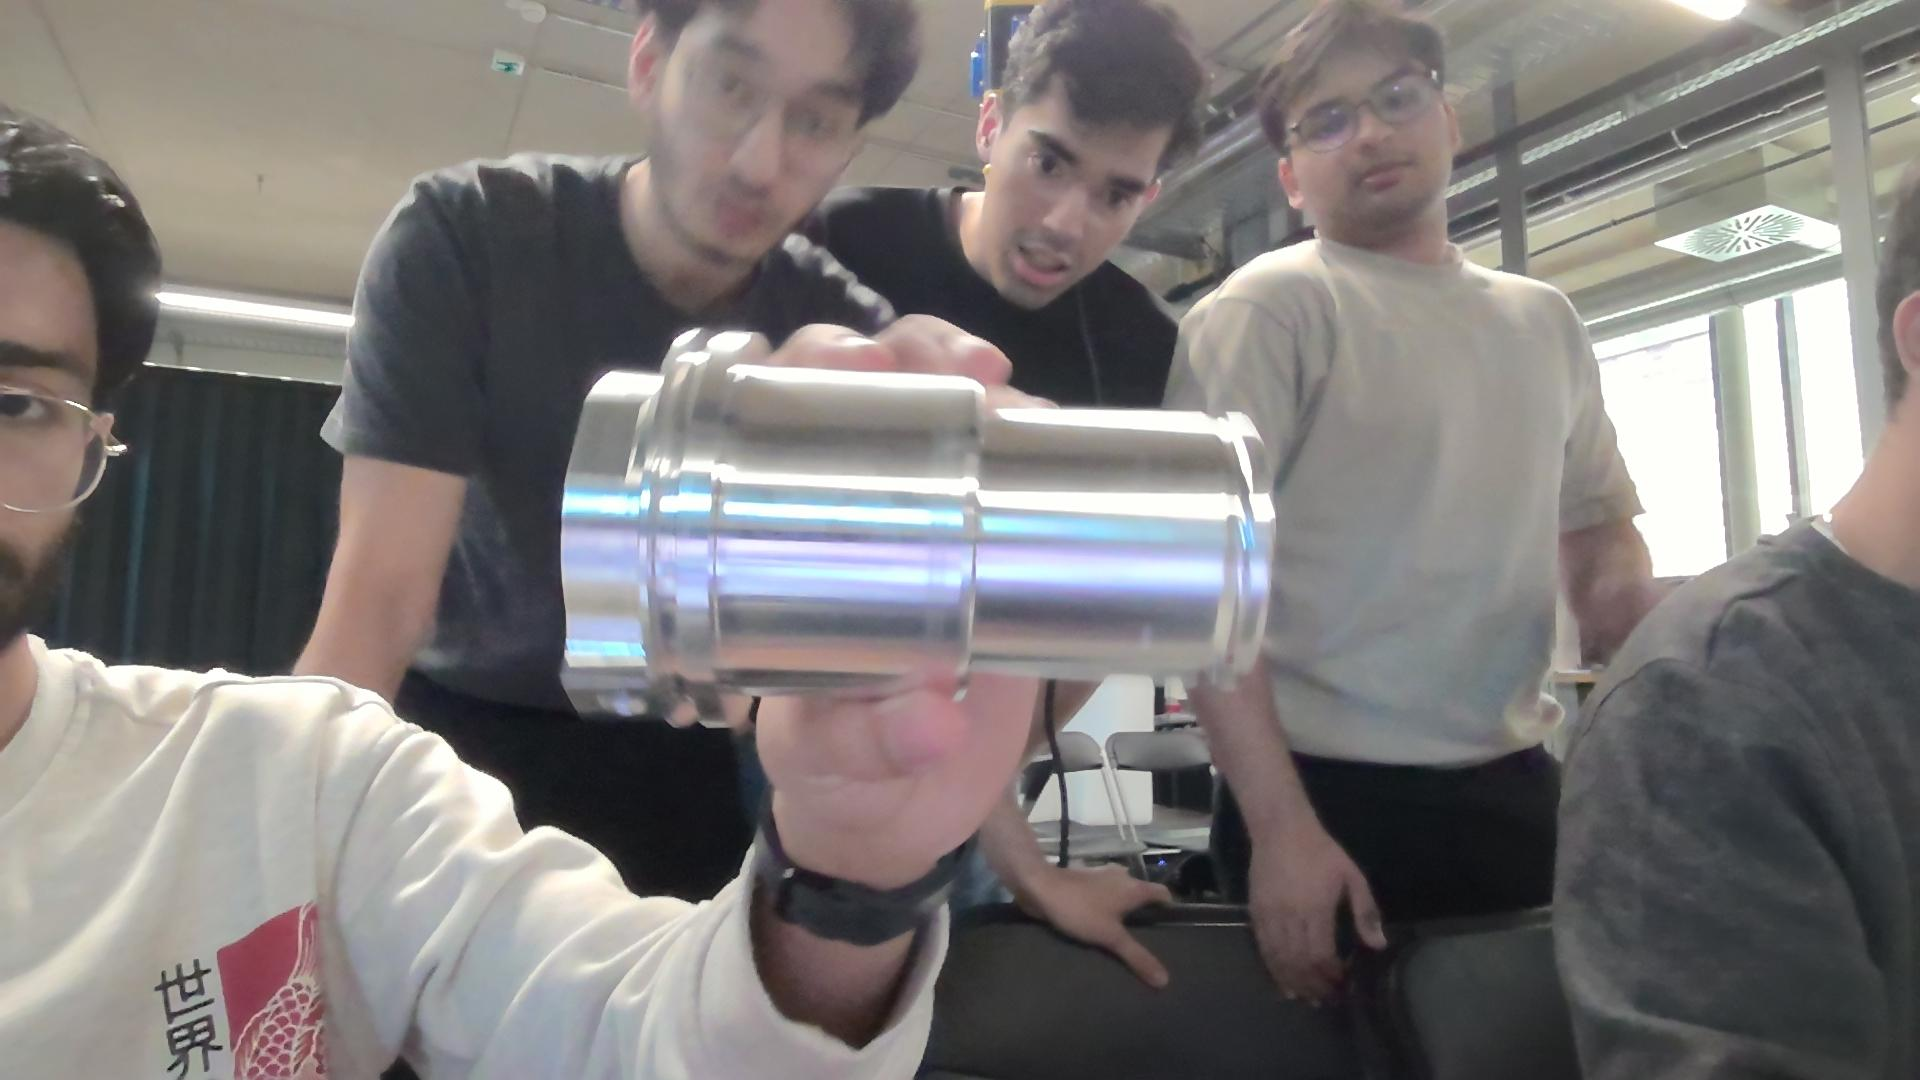objects: (538, 301, 1291, 749)
